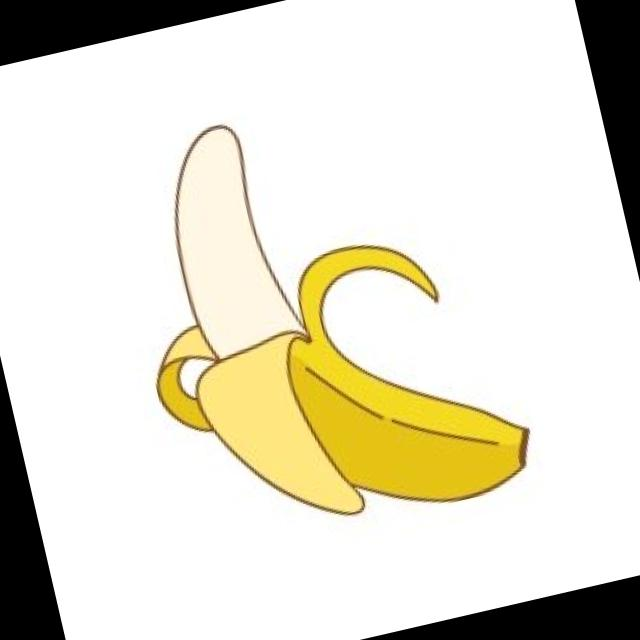banana: (129, 57, 542, 574)
